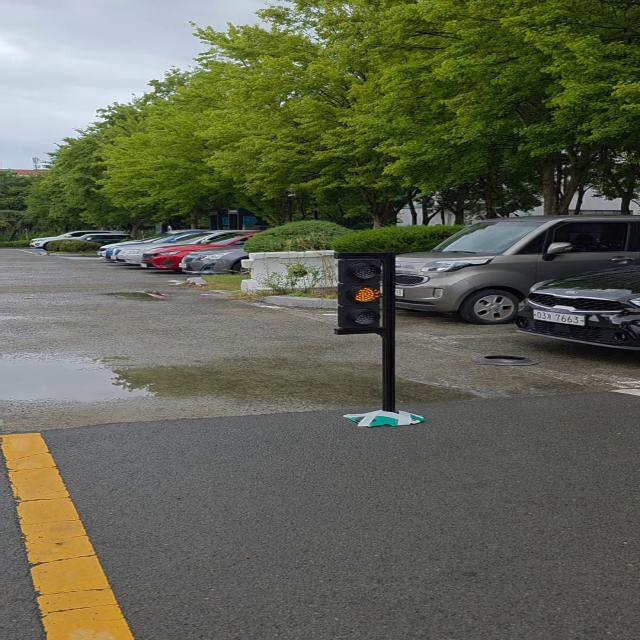yellow: (338, 252, 396, 335)
